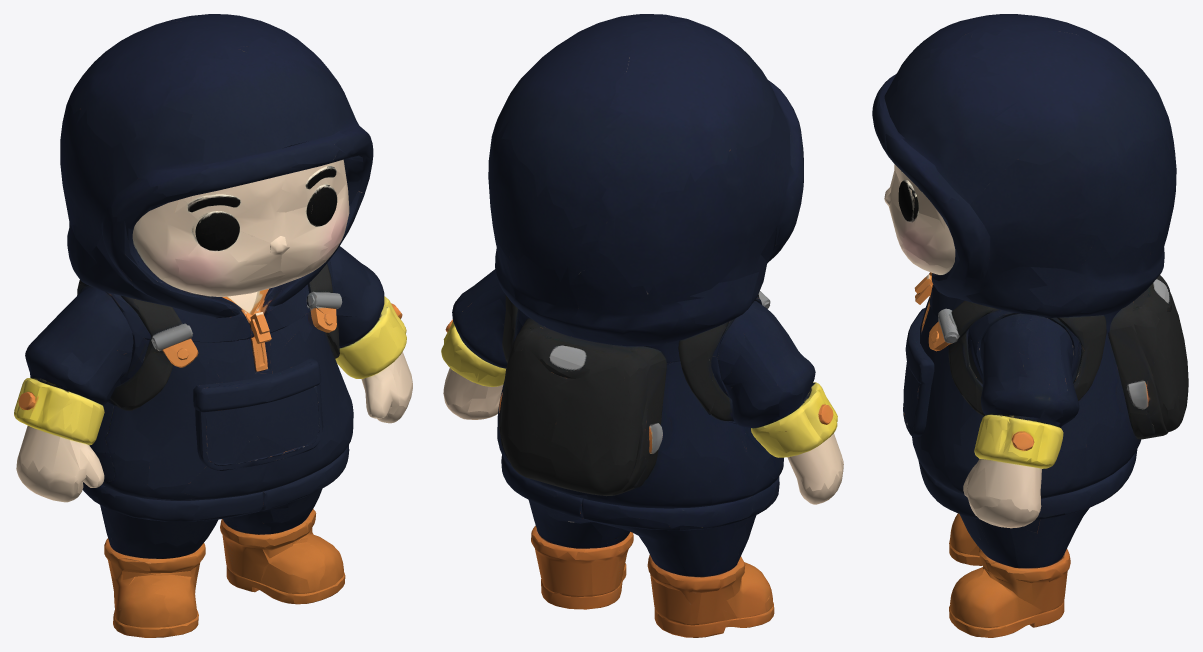
The model's file is top_work_hoodie_overall_01.glb.
3 renders of one model, left to right at view 1: azimuth 30°, elevation 25°; view 2: azimuth 150°, elevation 25°; view 3: azimuth 270°, elevation 25°, orthographic. The views are drawn at different scales.
Bounding box in the file's own units: 1.36 × 1.9 × 0.9799.
1 material, 1 textured.
